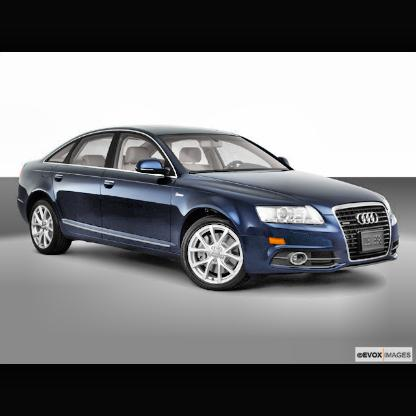Audi S6 Sedan 2011: (15, 122, 403, 295)
